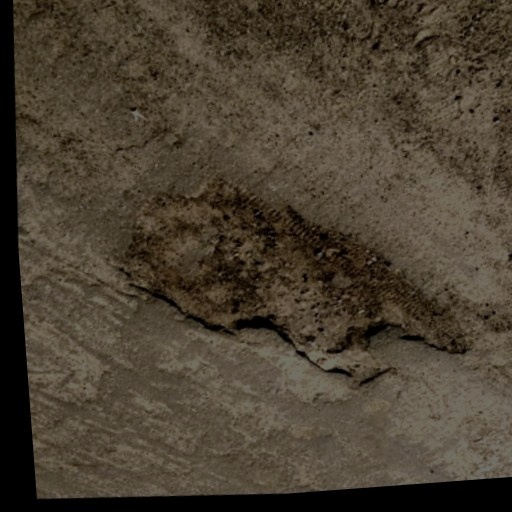pothole: (95, 143, 484, 416)
